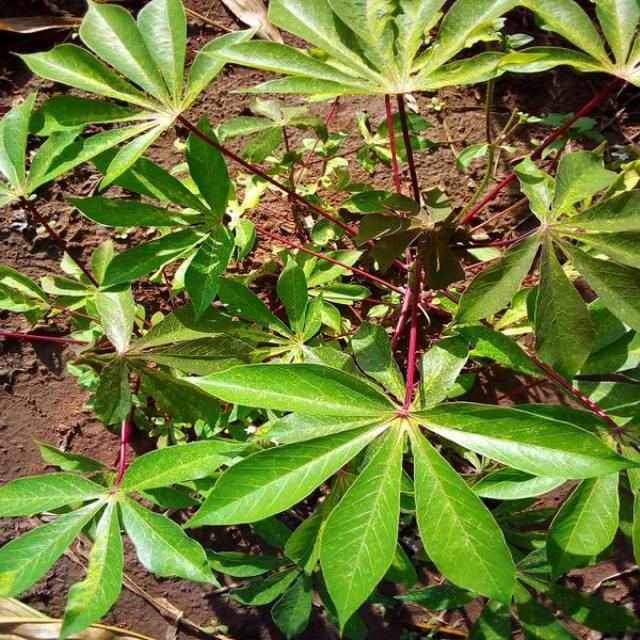cassava leaf: (0, 1, 638, 637), (178, 320, 636, 635)
